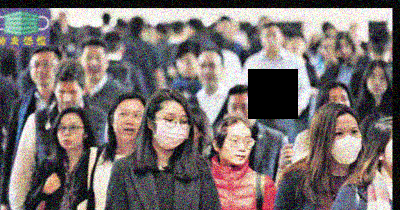with_mask: (153, 110, 189, 151), (330, 124, 362, 163)
without_mask: (219, 132, 252, 165), (112, 107, 142, 141), (56, 120, 83, 149), (29, 58, 55, 86), (228, 99, 254, 127), (80, 52, 104, 80), (198, 59, 220, 87), (55, 87, 80, 109), (366, 71, 388, 96), (259, 30, 281, 52), (175, 57, 197, 77), (336, 43, 353, 60)
